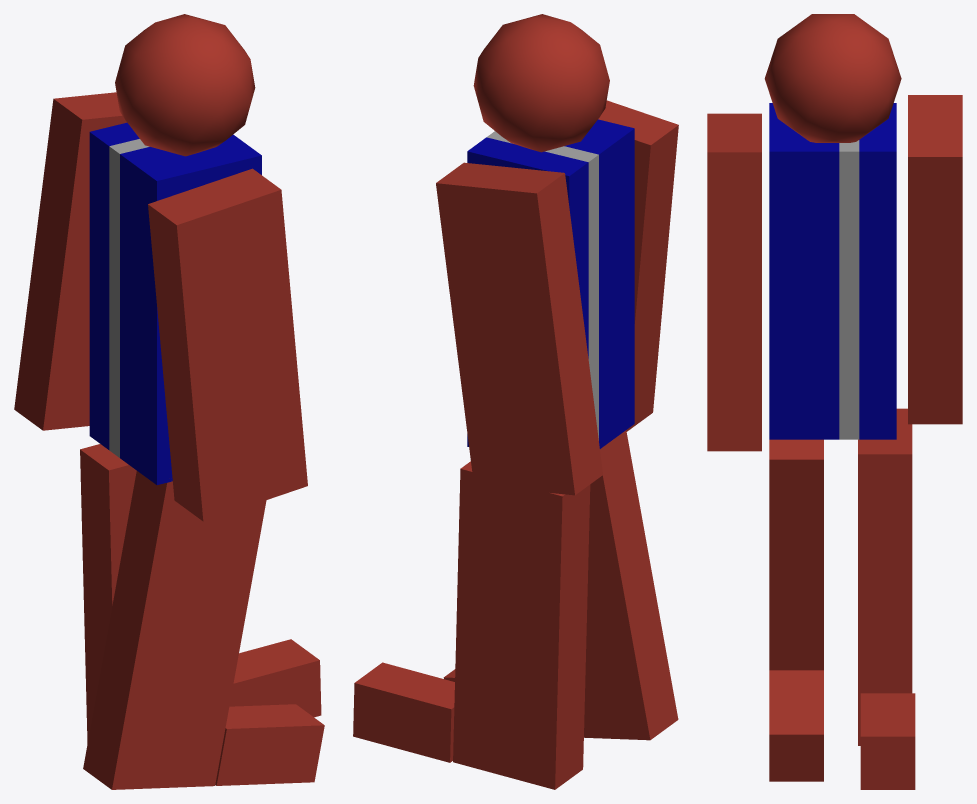
The model's file is player_000073.obj.
3 views of the same model, side by side, from view 1: azimuth 30°, elevation 25°; view 2: azimuth 150°, elevation 25°; view 3: azimuth 270°, elevation 25° (orthographic). The views are drawn at different scales.
Visible parts, largest first — view 1: Cube.005, Cube.001, Cube, Cube.006, Icosphere, Cube.002, Cube.003, Cube.004; view 2: Cube.006, Cube.002, Cube.001, Cube, Icosphere, Cube.005, Cube.004; view 3: Cube, Cube.005, Cube.006, Cube.002, Icosphere, Cube.001, Cube.003, Cube.004.
Part boxes in pixels (x1,y1,x2,y2): Cube.005: (148, 168, 307, 521); Cube.001: (83, 471, 266, 789); Cube: (89, 122, 261, 484); Cube.006: (14, 92, 126, 430); Icosphere: (115, 14, 255, 156); Cube.002: (80, 444, 136, 743); Cube.003: (215, 704, 324, 785); Cube.004: (229, 639, 321, 717); Cube.006: (436, 162, 602, 495); Cube.002: (453, 461, 590, 789); Cube.001: (584, 430, 678, 740); Cube: (467, 119, 634, 448); Icosphere: (473, 14, 609, 152); Cube.005: (598, 100, 678, 431); Cube.004: (353, 662, 454, 762); Cube: (769, 103, 896, 439); Cube.005: (707, 113, 761, 451); Cube.006: (908, 95, 962, 424); Cube.002: (858, 408, 912, 745); Icosphere: (764, 14, 901, 142); Cube.001: (769, 439, 823, 670); Cube.003: (769, 670, 823, 781); Cube.004: (860, 693, 915, 789).
Size of the model in its own units: 1.01 by 2.85 by 0.9137.
